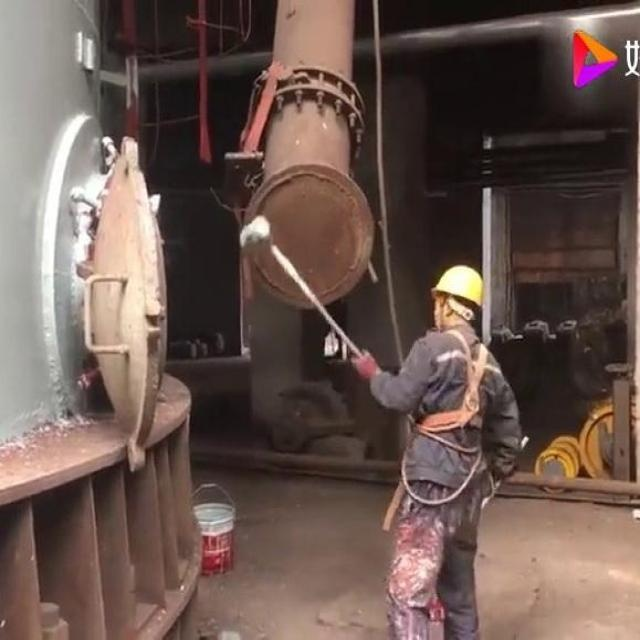Arnes_seguridad: (404, 325, 494, 442)
